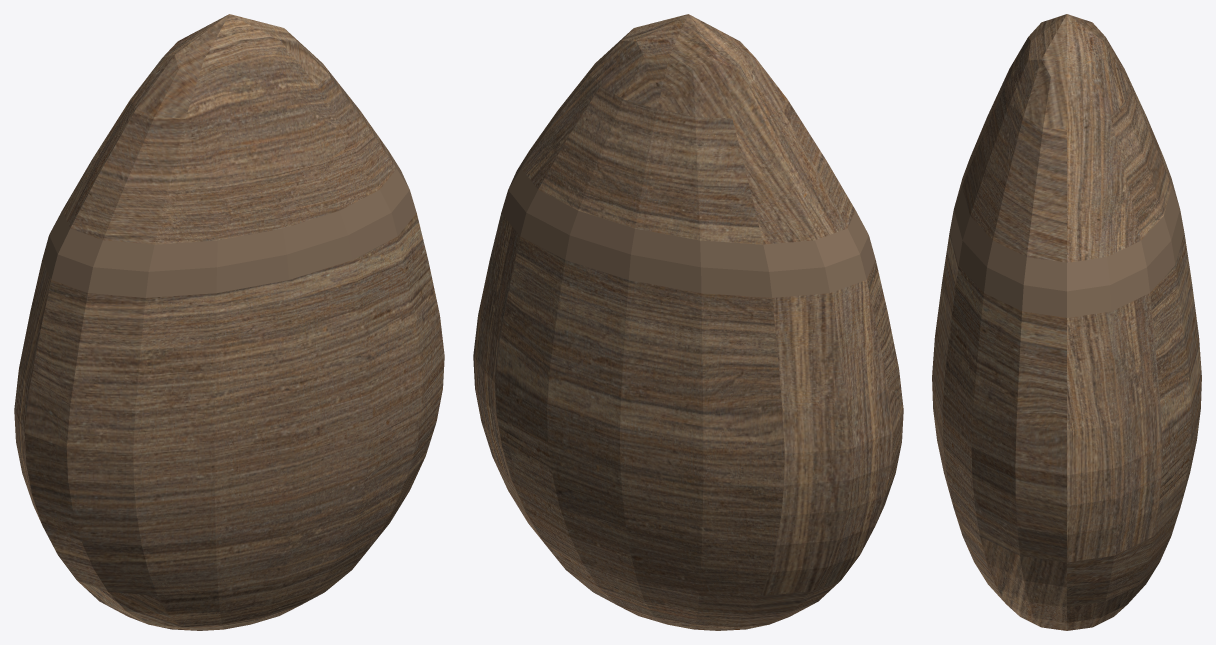
File: gamseed.fbx
3 renders of one model, left to right at view 1: azimuth 30°, elevation 25°; view 2: azimuth 150°, elevation 25°; view 3: azimuth 270°, elevation 25°, orthographic.
Parts seen in each view (by area): view 1: gamseed; view 2: gamseed; view 3: gamseed.
Part boxes in pixels (<box>): gamseed: <box>14,14,444,630</box>; gamseed: <box>473,14,903,630</box>; gamseed: <box>932,14,1201,630</box>.
Bounding box in the file's own units: 54.13 × 76.5 × 31.43.
1 material, 1 textured.
